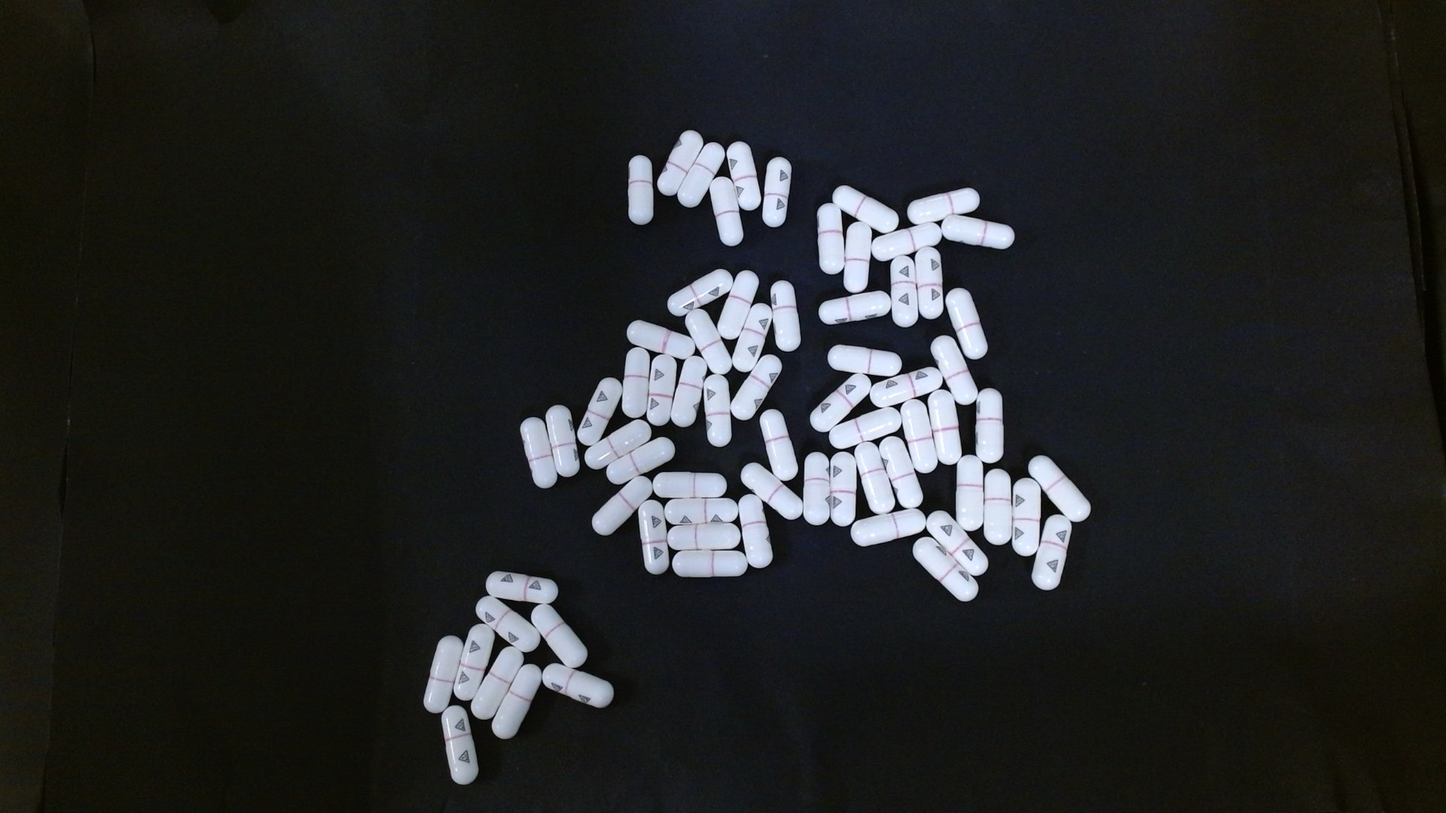Capsule: (1028, 452, 1092, 523), (913, 534, 978, 603), (926, 508, 990, 577), (471, 644, 526, 722), (591, 472, 654, 536), (541, 661, 616, 713), (490, 662, 541, 738), (740, 461, 803, 522), (810, 372, 874, 431), (529, 604, 587, 669), (586, 418, 653, 472), (675, 141, 728, 209), (605, 435, 677, 485), (477, 598, 541, 654), (732, 352, 781, 423), (931, 334, 979, 406), (878, 435, 925, 508), (575, 375, 623, 446), (828, 405, 903, 450), (831, 184, 898, 234), (683, 307, 731, 376), (453, 623, 496, 700), (658, 130, 708, 196), (854, 439, 897, 515), (871, 366, 944, 410), (668, 268, 734, 316), (899, 397, 939, 476), (424, 635, 463, 715), (1033, 513, 1073, 591), (947, 287, 989, 361), (851, 507, 927, 547), (441, 703, 478, 784), (717, 270, 758, 343), (758, 409, 798, 482), (627, 319, 697, 360), (670, 355, 708, 428), (906, 187, 978, 225), (926, 388, 961, 466), (733, 304, 773, 371), (486, 568, 558, 605), (519, 417, 555, 489), (942, 214, 1016, 249), (738, 493, 772, 568), (645, 353, 679, 428), (873, 222, 940, 260), (545, 405, 580, 477), (637, 500, 670, 576), (827, 343, 902, 376), (1009, 477, 1040, 556), (619, 347, 653, 419), (820, 291, 891, 325), (726, 142, 760, 212), (826, 450, 856, 528), (709, 177, 743, 245), (801, 450, 831, 526), (770, 278, 800, 354), (956, 454, 984, 533), (975, 389, 1004, 465), (703, 373, 732, 448), (914, 246, 943, 321), (984, 469, 1012, 546), (672, 549, 745, 578), (816, 204, 845, 277), (844, 220, 871, 297), (889, 255, 917, 328), (763, 157, 792, 227), (665, 498, 739, 525), (669, 523, 741, 550), (654, 471, 726, 498), (627, 155, 653, 225)
